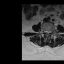CCS_stenosis: (46, 29, 48, 36)
LFS_normal: (49, 28, 51, 34)
LLS_normal: (48, 28, 49, 35)
RFS_normal: (43, 28, 45, 34)
RLS_normal: (45, 29, 46, 35)
